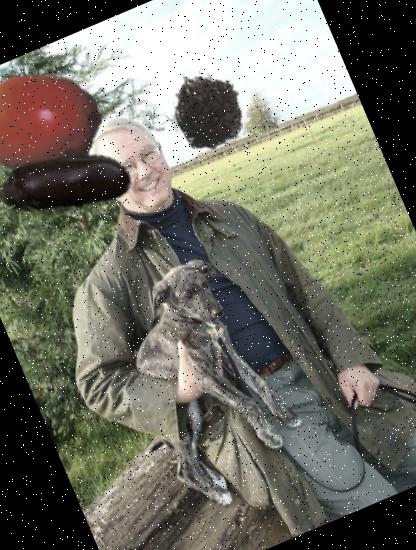Eggplant: (0, 89, 156, 278)
Kaki: (0, 43, 122, 210)
Rambutan: (153, 54, 264, 164)
